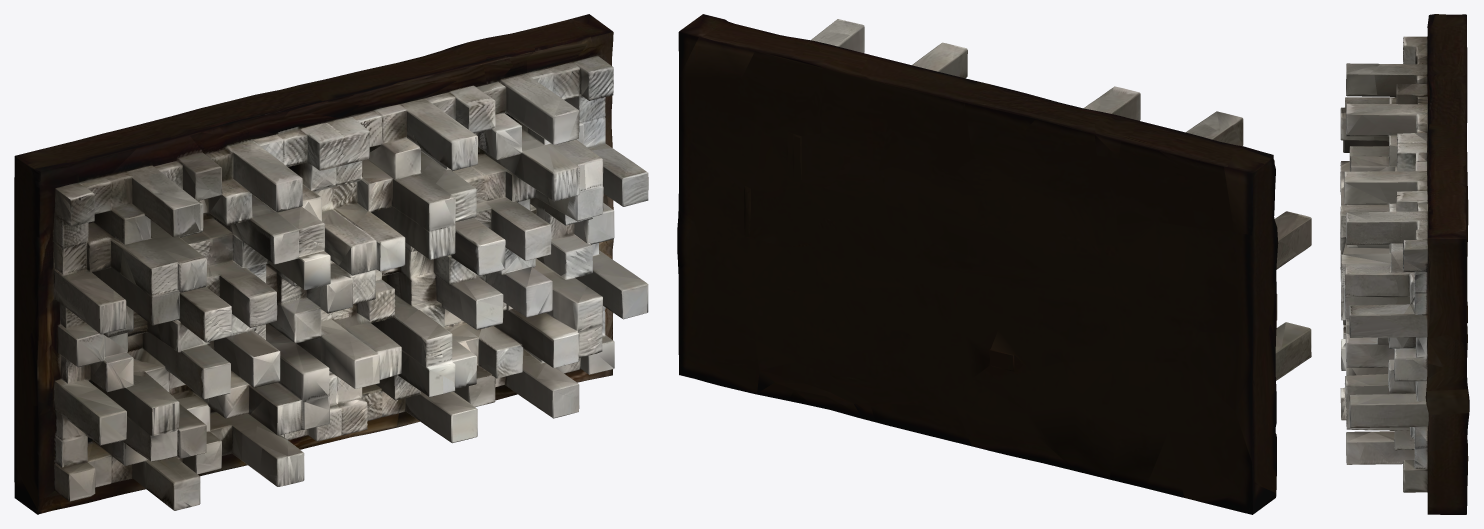
Rendered from difusor.fbx.
3 views of the same model, side by side, from view 1: azimuth 30°, elevation 25°; view 2: azimuth 150°, elevation 25°; view 3: azimuth 270°, elevation 25° (orthographic). The views are drawn at different scales.
Parts seen in each view (by area): view 1: tripo_node_12e9a76d; view 2: tripo_node_12e9a76d; view 3: tripo_node_12e9a76d.
Boxes of the visible parts, left/top/right/bottom form: tripo_node_12e9a76d: left=14, top=14, right=648, bottom=514; tripo_node_12e9a76d: left=677, top=14, right=1311, bottom=514; tripo_node_12e9a76d: left=1340, top=14, right=1469, bottom=514.
Bounding box in the file's own units: 97.67 × 56.29 × 23.73.
